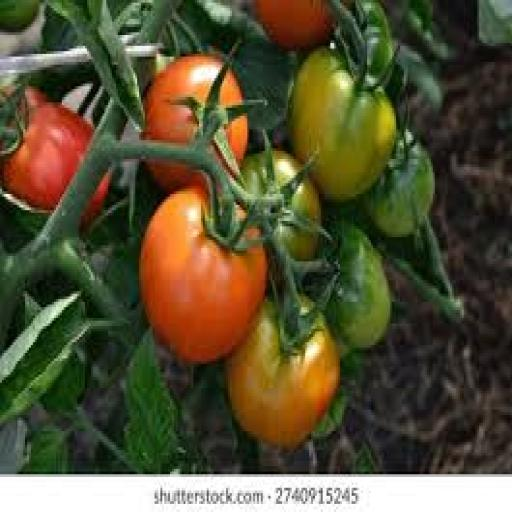tomato: (140, 189, 266, 363), (227, 302, 340, 447), (290, 49, 396, 202), (2, 95, 92, 210), (327, 224, 390, 347), (143, 54, 222, 145), (366, 143, 434, 237), (256, 0, 334, 48), (362, 0, 394, 86), (277, 219, 318, 261), (0, 0, 38, 32), (26, 87, 48, 110)
